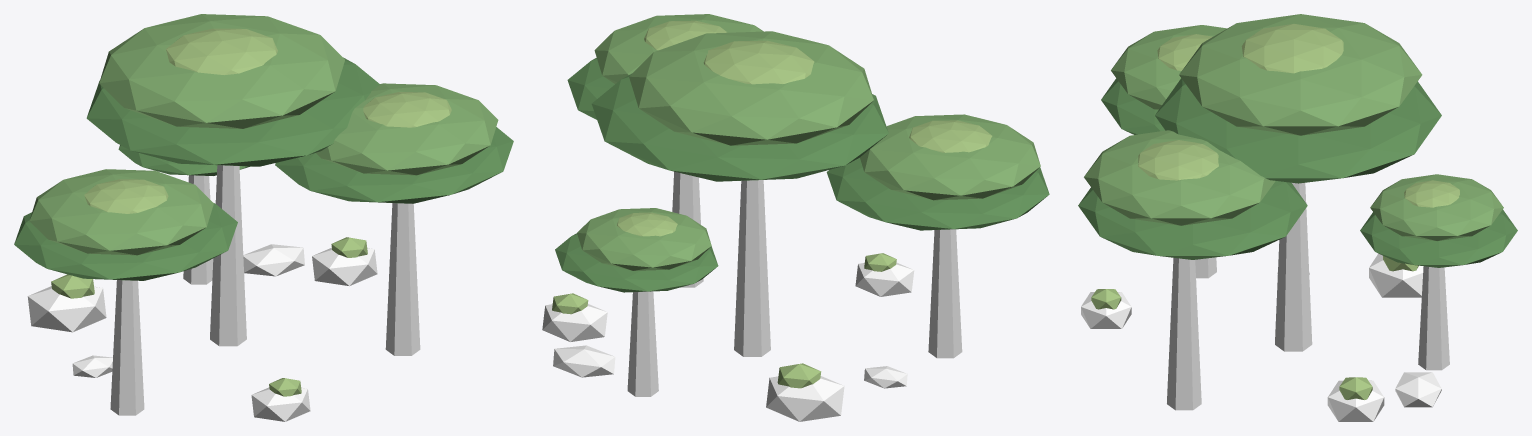
The model's file is forest.glb.
The picture shows the model from 3 angles, left to right: view 1: azimuth 30°, elevation 25°; view 2: azimuth 150°, elevation 25°; view 3: azimuth 270°, elevation 25°; orthographic projection.
Visible parts, largest first — view 1: crown, shade, crown.001, crown.002, shade.002, shade.001, trunk, trunk.002, top, trunk.001, shrub, top.002 (+10 smaller); view 2: crown, shade, crown.001, shade.001, crown.003, trunk, shade.003, top, trunk.001, crown.002, trunk.003, shrub (+12 smaller); view 3: crown, shade, crown.002, shade.002, crown.003, shade.003, trunk.002, trunk, top, crown.001, trunk.003, top.002 (+10 smaller).
Boxes of the visible parts, x1=… form: crown: x1=99, y1=14, x2=344, y2=128; shade: x1=86, y1=57, x2=380, y2=166; crown.001: x1=29, y1=169, x2=213, y2=255; crown.002: x1=316, y1=83, x2=498, y2=175; shade.002: x1=275, y1=127, x2=513, y2=203; shade.001: x1=14, y1=203, x2=237, y2=280; trunk: x1=210, y1=165, x2=246, y2=346; trunk.002: x1=385, y1=203, x2=420, y2=355; top: x1=166, y1=28, x2=277, y2=74; trunk.001: x1=110, y1=280, x2=144, y2=415; shrub: x1=27, y1=286, x2=106, y2=332; top.002: x1=363, y1=92, x2=451, y2=127; crown: x1=629, y1=31, x2=873, y2=145; shade: x1=591, y1=73, x2=888, y2=181; crown.001: x1=860, y1=114, x2=1040, y2=200; shade.001: x1=826, y1=157, x2=1049, y2=230; crown.003: x1=577, y1=208, x2=711, y2=270; trunk: x1=734, y1=180, x2=770, y2=356; shade.003: x1=555, y1=233, x2=718, y2=292; top: x1=703, y1=40, x2=814, y2=84; trunk.001: x1=928, y1=229, x2=962, y2=358; crown.002: x1=594, y1=14, x2=763, y2=83; trunk.003: x1=627, y1=291, x2=658, y2=396; shrub: x1=766, y1=376, x2=844, y2=421; crown: x1=1179, y1=14, x2=1422, y2=135; shade: x1=1155, y1=78, x2=1441, y2=183; crown.002: x1=1084, y1=130, x2=1275, y2=225; shade.002: x1=1078, y1=181, x2=1307, y2=259; crown.003: x1=1370, y1=174, x2=1503, y2=240; shade.003: x1=1360, y1=209, x2=1517, y2=267; trunk.002: x1=1167, y1=257, x2=1201, y2=410; trunk: x1=1275, y1=183, x2=1312, y2=351; top: x1=1241, y1=24, x2=1343, y2=73; crown.001: x1=1111, y1=25, x2=1226, y2=109; trunk.003: x1=1418, y1=266, x2=1449, y2=370; top.002: x1=1138, y1=140, x2=1218, y2=180.
Bounding box in the file's own units: 0.684 × 0.4341 × 0.5637.
